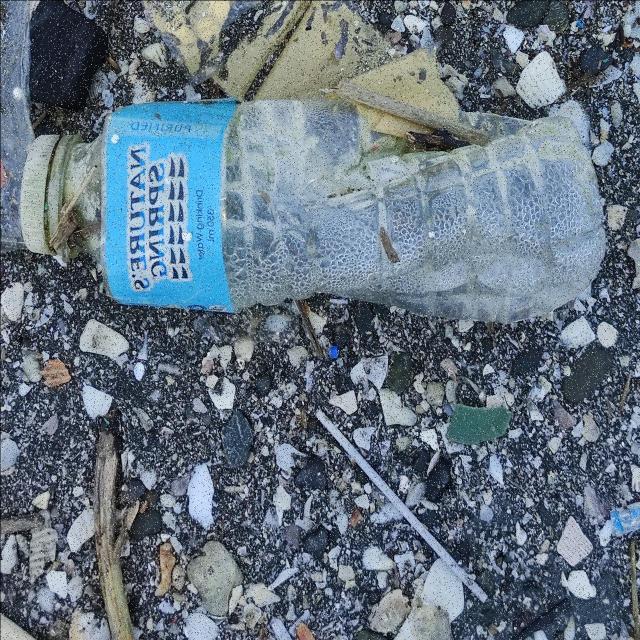plastic_waste: (19, 98, 607, 319), (313, 404, 491, 608)
